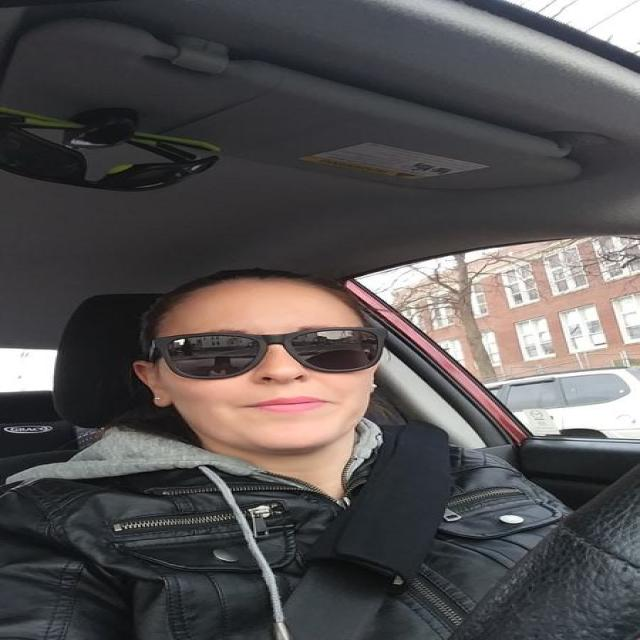2_gafas: (145, 326, 388, 380)
